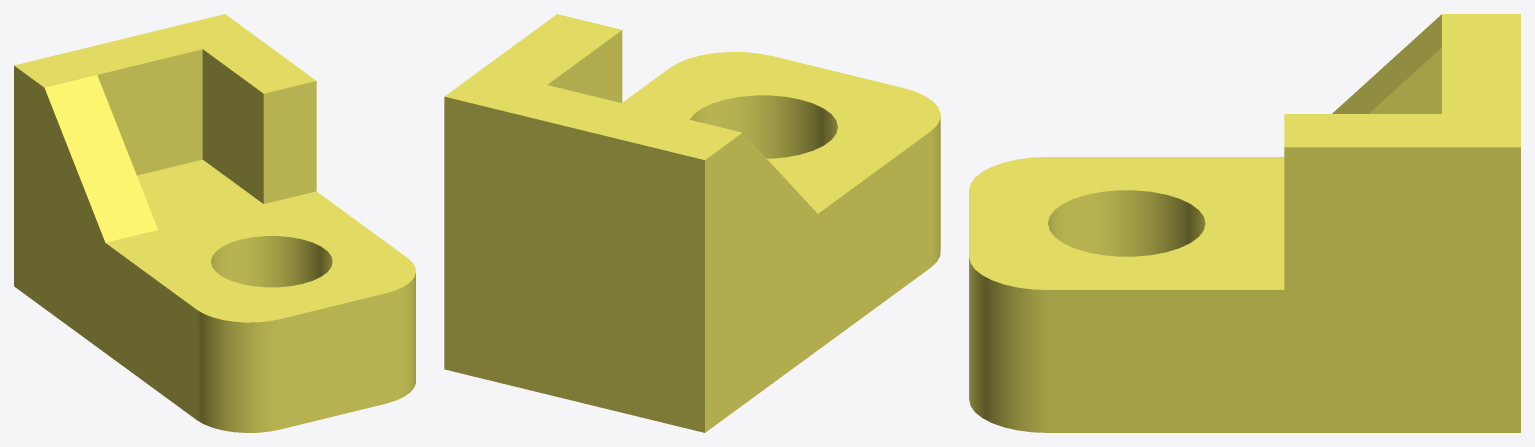
3 renders of one model, left to right at view 1: azimuth 30°, elevation 25°; view 2: azimuth 150°, elevation 25°; view 3: azimuth 270°, elevation 25°, orthographic. The views are drawn at different scales.
Visible parts, largest first — view 1: 913; view 2: 913; view 3: 913.
Part boxes in pixels (<box>): 913: <box>14,14,415,432</box>; 913: <box>444,14,940,432</box>; 913: <box>969,14,1520,432</box>.
Size of the model in its own units: 0.04 by 0.04 by 0.07.
